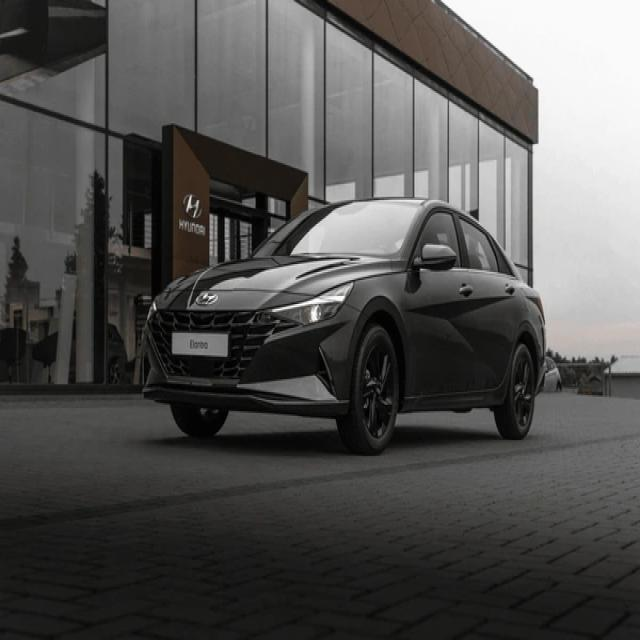hyundai: (196, 291, 220, 306)
